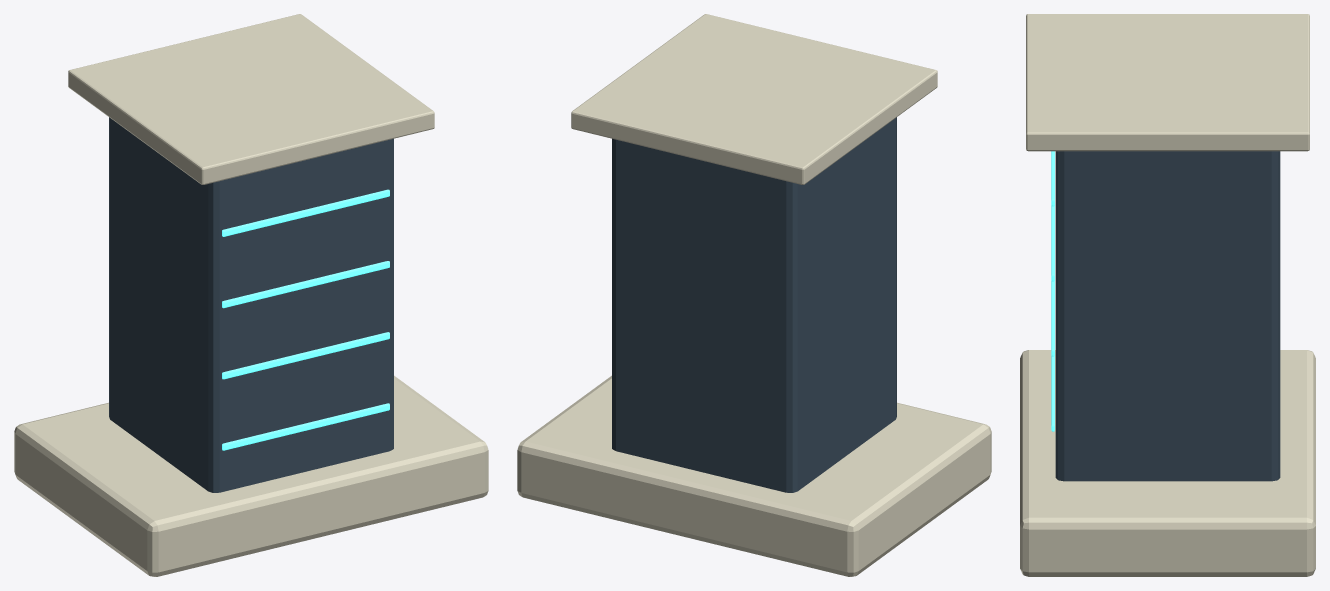
File: landmark-tech.glb
3 renders of one model, left to right at view 1: azimuth 30°, elevation 25°; view 2: azimuth 150°, elevation 25°; view 3: azimuth 270°, elevation 25°, orthographic. The views are drawn at different scales.
Parts seen in each view (by area): view 1: Geometry_Steel, Geometry_Trim, Geometry_Cyan; view 2: Geometry_Steel, Geometry_Trim; view 3: Geometry_Trim, Geometry_Steel, Geometry_Cyan.
Boxes of the visible parts, box(x1,y1,x2,y2) form: Geometry_Steel: box(109, 117, 393, 492); Geometry_Trim: box(14, 14, 488, 576); Geometry_Cyan: box(222, 189, 389, 450); Geometry_Steel: box(612, 117, 896, 492); Geometry_Trim: box(517, 14, 991, 576); Geometry_Trim: box(1020, 14, 1315, 576); Geometry_Steel: box(1055, 151, 1280, 481); Geometry_Cyan: box(1051, 151, 1054, 431).
Size of the model in its own units: 7 by 7.83 by 5.
